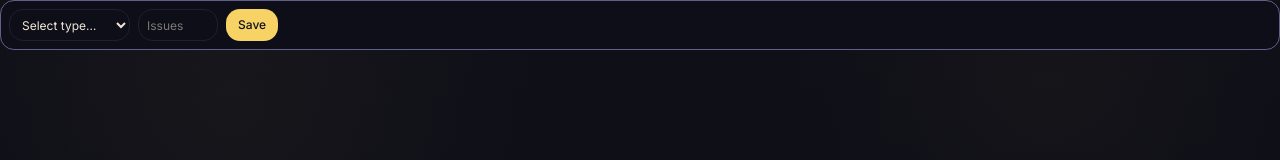
it: ChoreScheduleConfig › shows error when no type selected
Click the button "Save": {"x": 252, "y": 25} [226,9,278,41]
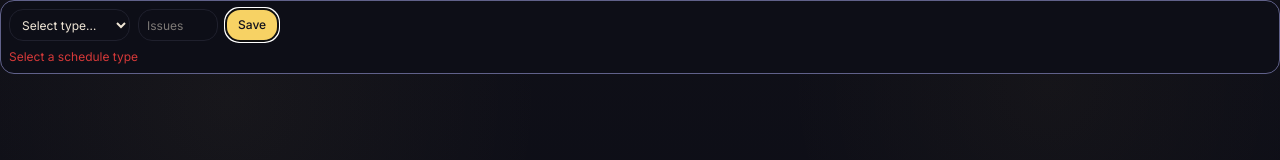
Check: the text "Select a schedule type" is shown, box [9,49,138,64]
